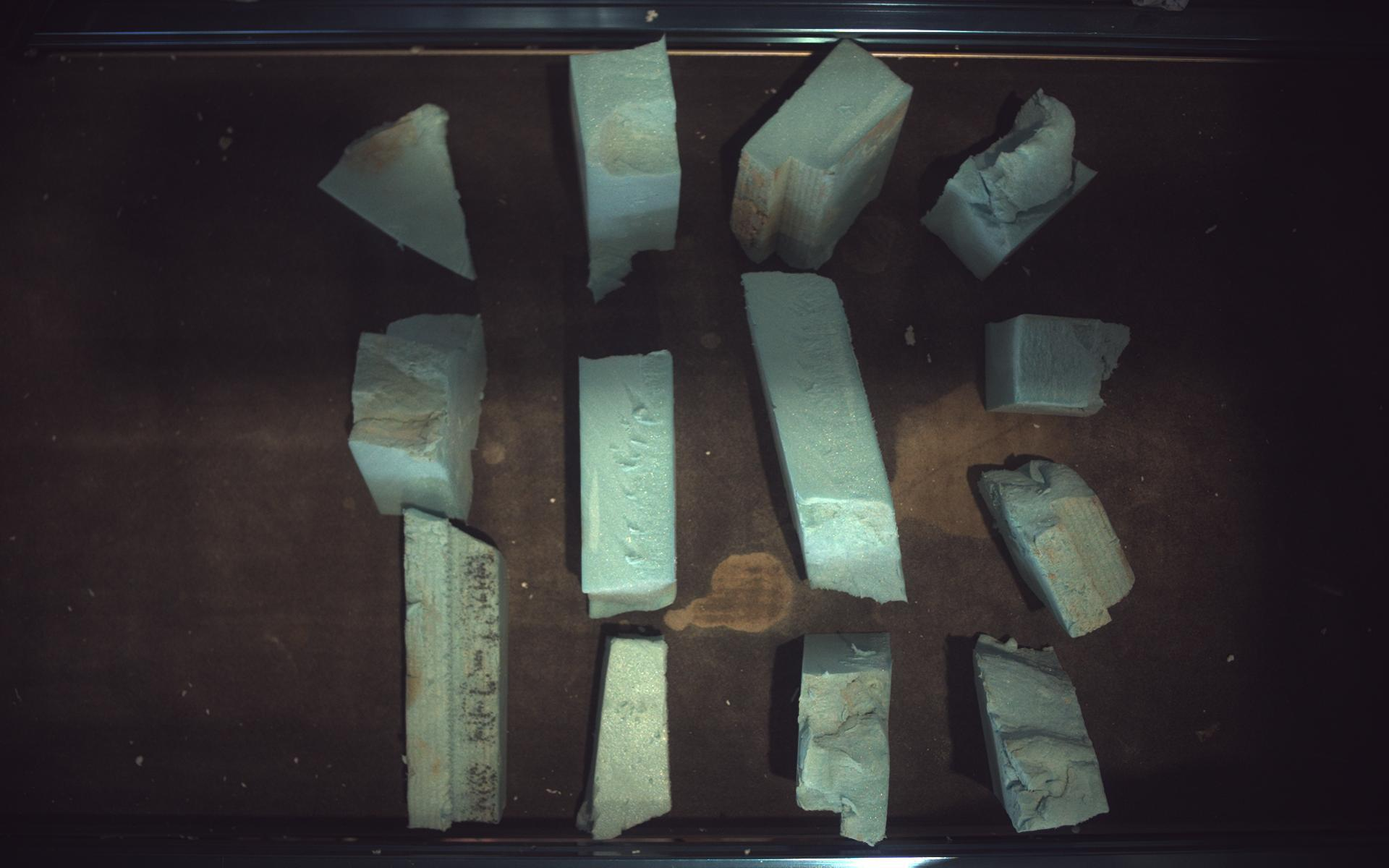foam: (743, 273, 908, 603), (733, 38, 914, 269), (923, 88, 1099, 279), (404, 509, 507, 832), (571, 37, 681, 299), (349, 315, 486, 521), (318, 103, 475, 279), (980, 461, 1137, 637), (976, 636, 1110, 833), (579, 350, 677, 619), (799, 634, 893, 847), (577, 637, 672, 841), (987, 314, 1133, 417)
